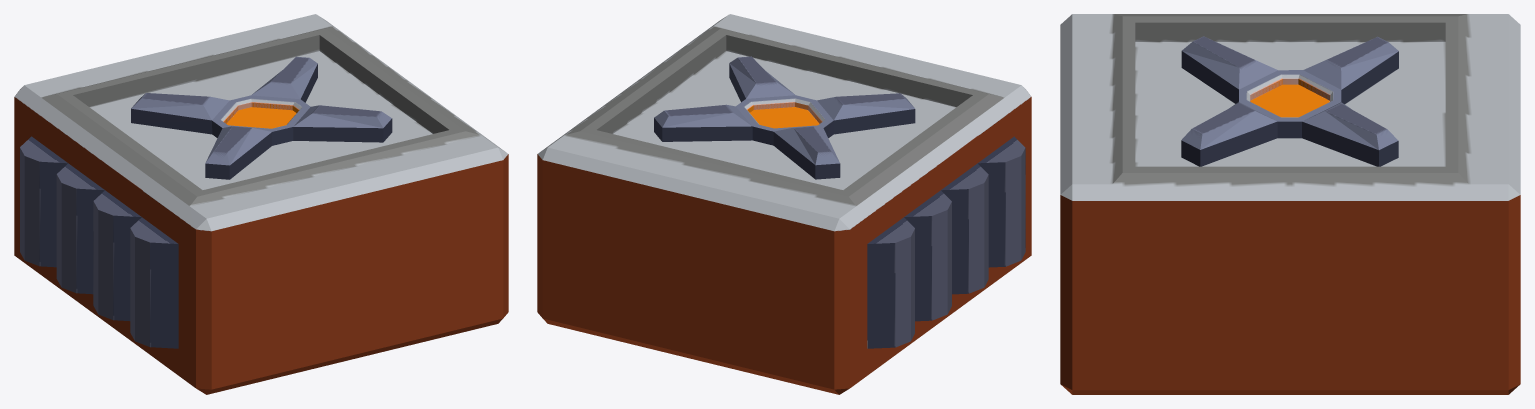
The model's file is Fogão.fbx.
The picture shows the model from 3 angles, left to right: view 1: azimuth 30°, elevation 25°; view 2: azimuth 150°, elevation 25°; view 3: azimuth 270°, elevation 25°; orthographic projection. The views are drawn at different scales.
Visible parts, largest first — view 1: Fogão, Fogo; view 2: Fogão, Fogo; view 3: Fogão, Fogo.
Part boxes in pixels (x1,y1,x2,y2): Fogão: [14, 14, 508, 394]; Fogo: [131, 56, 392, 179]; Fogão: [537, 14, 1031, 394]; Fogo: [654, 56, 915, 179]; Fogão: [1060, 14, 1520, 394]; Fogo: [1181, 36, 1398, 166].
Size of the model in its own units: 826 by 439 by 815.
